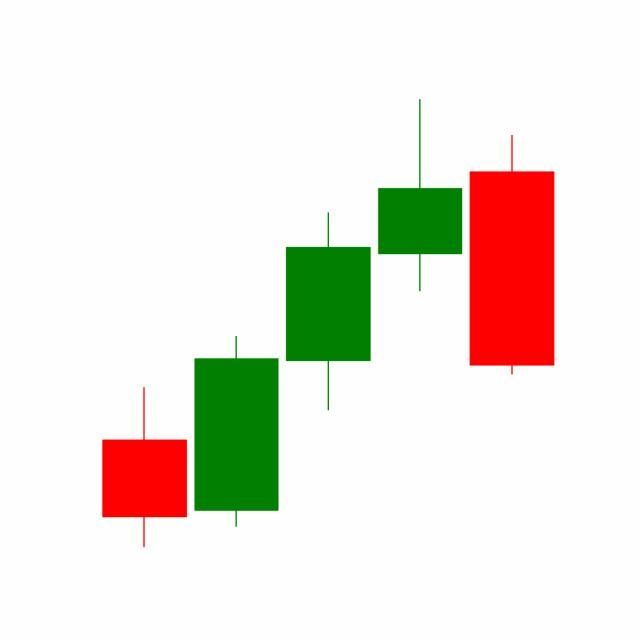Advance Block: (190, 99, 467, 532)
